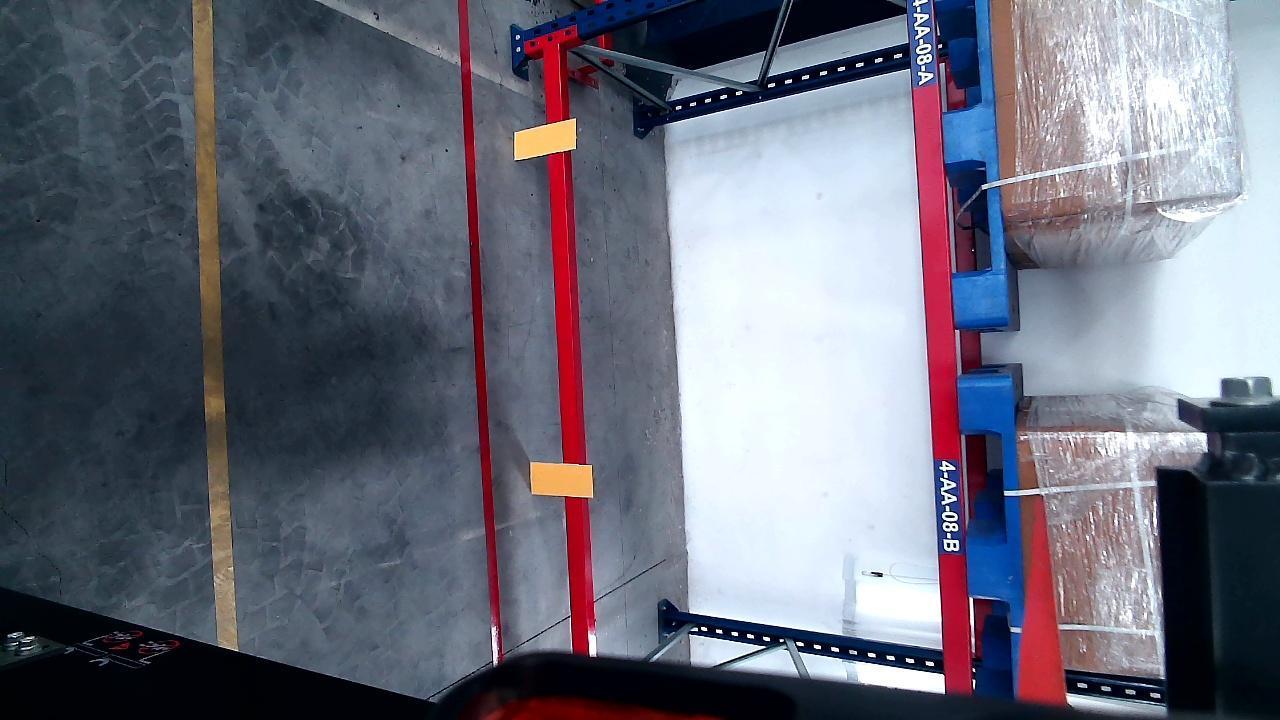red_line: (458, 1, 509, 665)
yellow_line: (189, 0, 238, 654)
